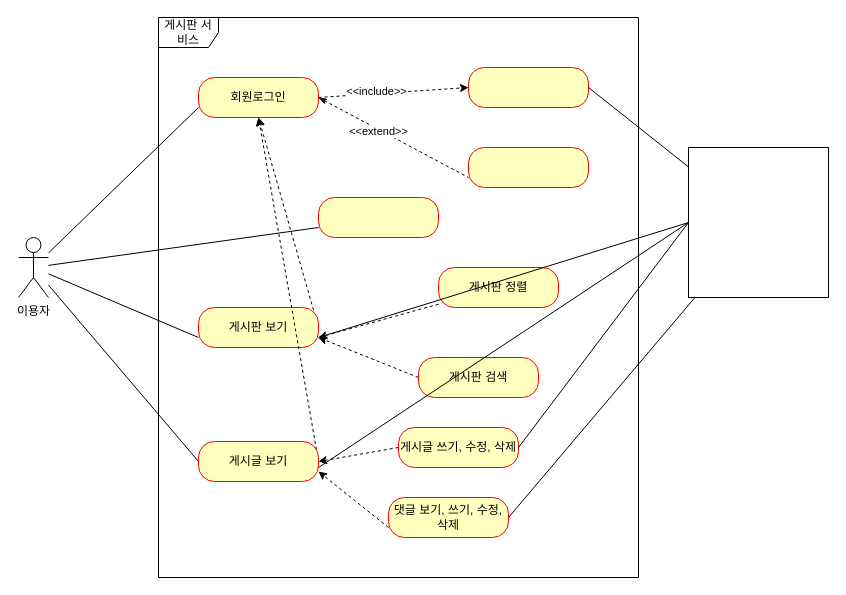
The diagram is 846 pixels wide and 595 high, and some of its shapes have lost their labels. Here are the shapes that lost their labels. From the top down, the centre of each, then its label:
point (528, 87): 인증
point (528, 167): 로그인 실패
point (378, 217): 회원가입
point (758, 222): DB
